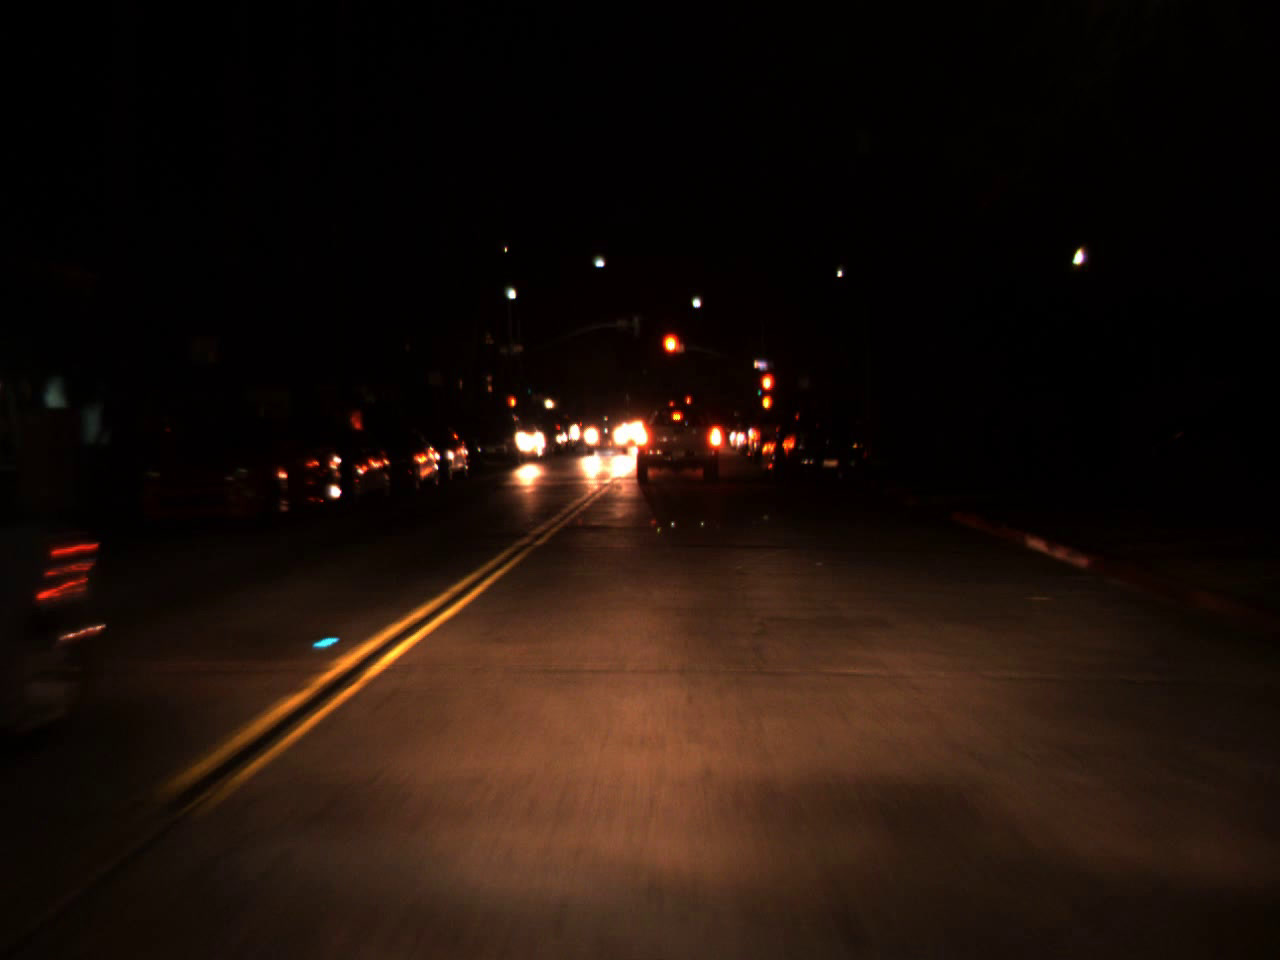stop: (660, 330, 684, 375), (759, 370, 777, 413)
